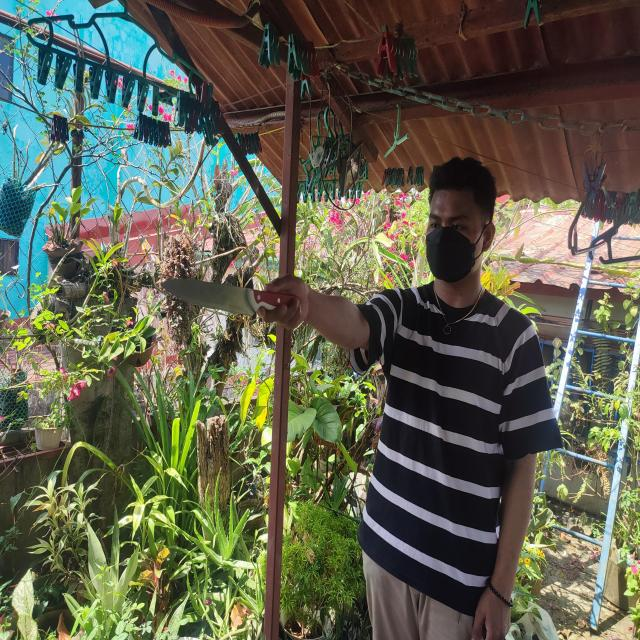knife: (161, 279, 296, 316)
